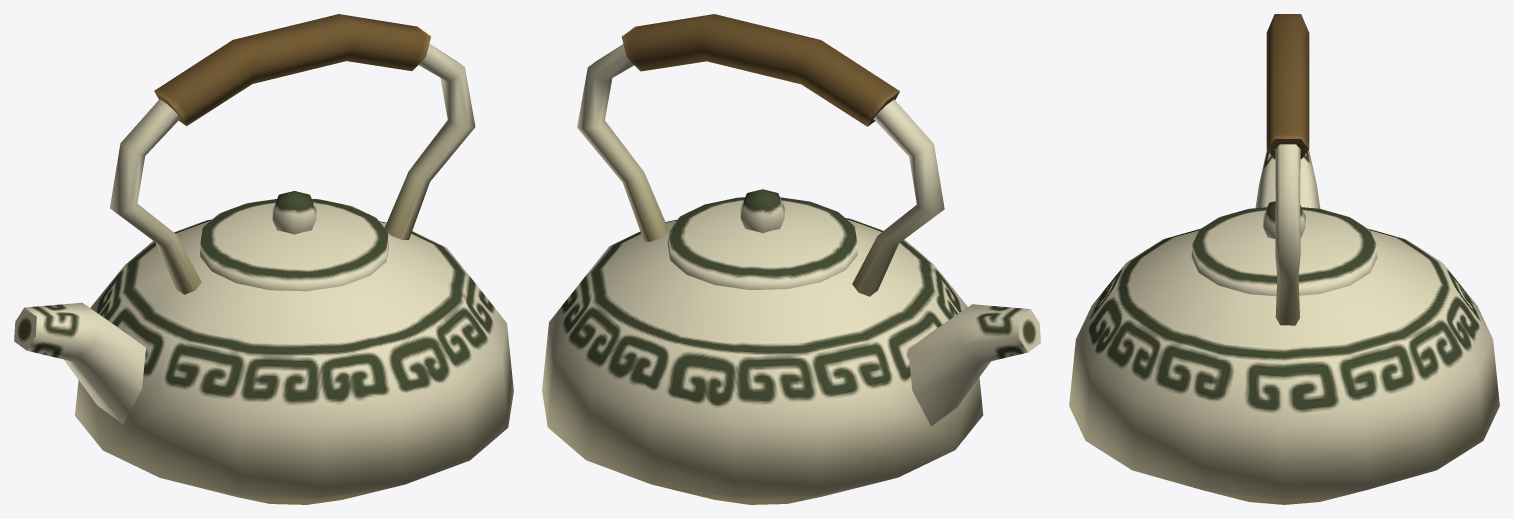
File: Prop_Teapot.fbx
The picture shows the model from 3 angles, left to right: view 1: azimuth 30°, elevation 25°; view 2: azimuth 150°, elevation 25°; view 3: azimuth 270°, elevation 25°; orthographic projection. The views are drawn at different scales.
Visible parts, largest first — view 1: Teapot_01; view 2: Teapot_01; view 3: Teapot_01.
Boxes of the visible parts, x1,y1,x2,y2 form: Teapot_01: [14, 14, 513, 504]; Teapot_01: [542, 14, 1040, 504]; Teapot_01: [1069, 14, 1499, 504].
Bounding box in the file's own units: 0.2602 × 0.2314 × 0.2151.
